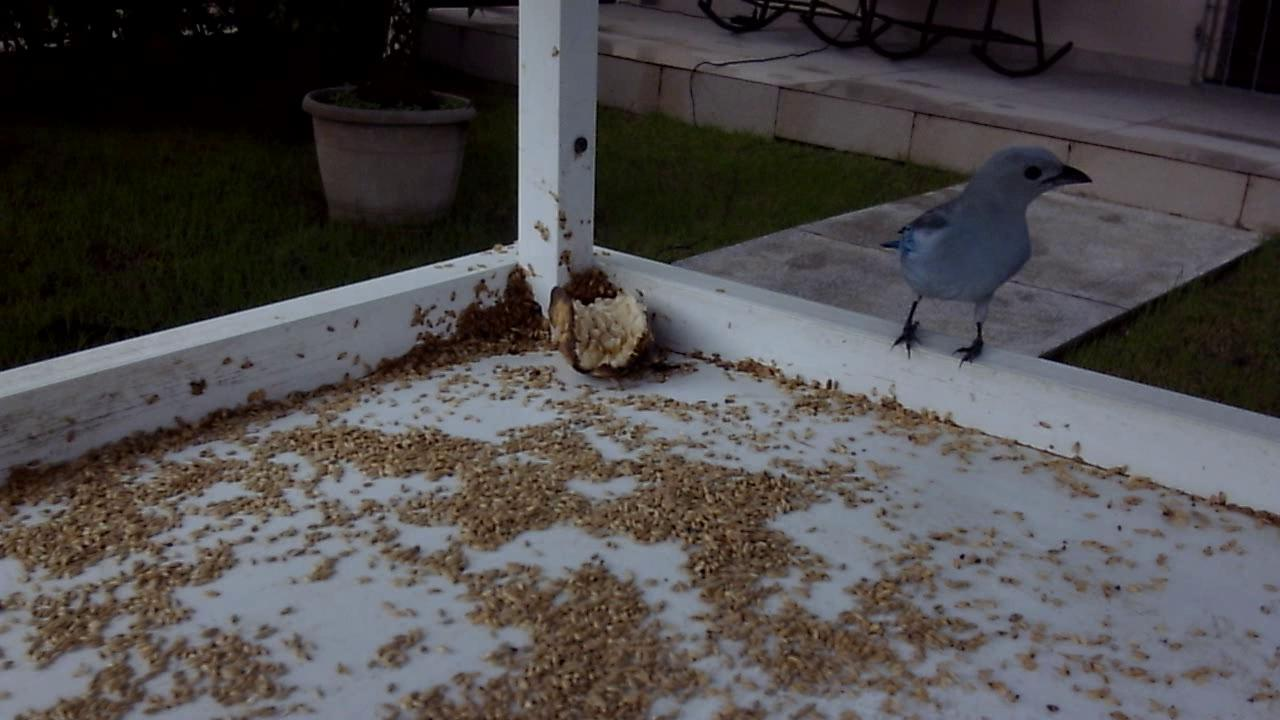sanhaco_da_amazonia: (873, 135, 1089, 378)
